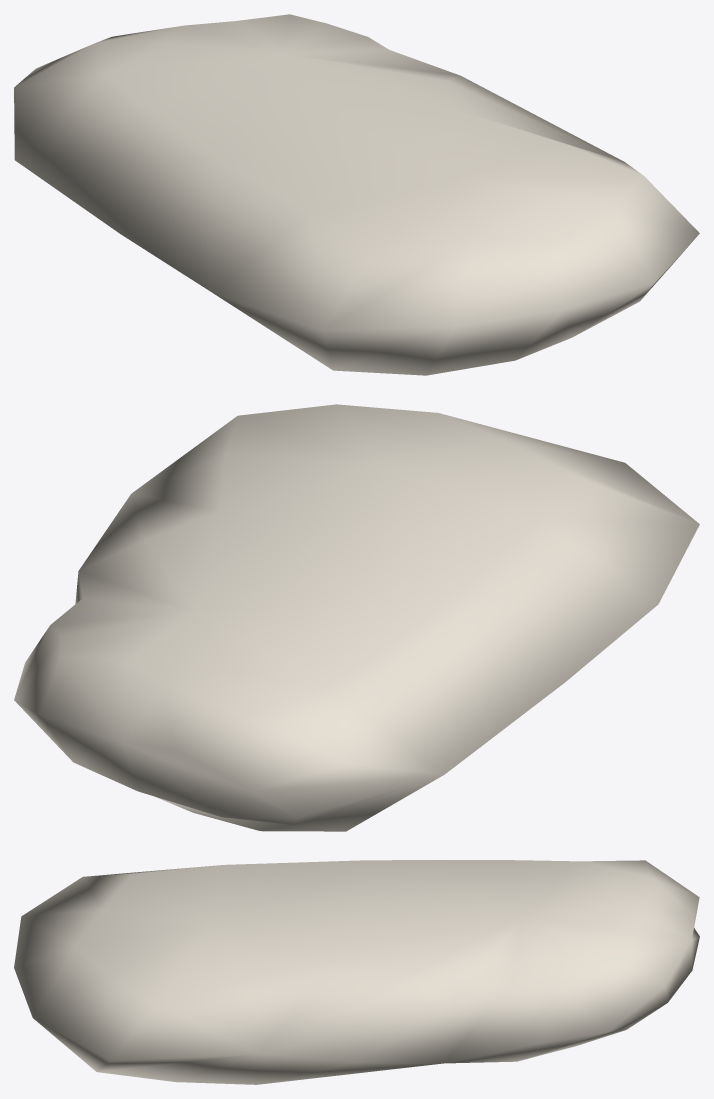
File: Iceberg.003.fbx
3 renders of one model, top to bottom at view 1: azimuth 30°, elevation 25°; view 2: azimuth 150°, elevation 25°; view 3: azimuth 270°, elevation 25°, orthographic. The views are drawn at different scales.
Visible parts, largest first — view 1: Iceberg.003; view 2: Iceberg.003; view 3: Iceberg.003.
Part boxes in pixels (x1,y1,x2,y2): Iceberg.003: (14, 14, 699, 375); Iceberg.003: (14, 404, 699, 831); Iceberg.003: (14, 860, 699, 1084).
Bounding box in the file's own units: 3.74 × 5.51 × 1.03.
